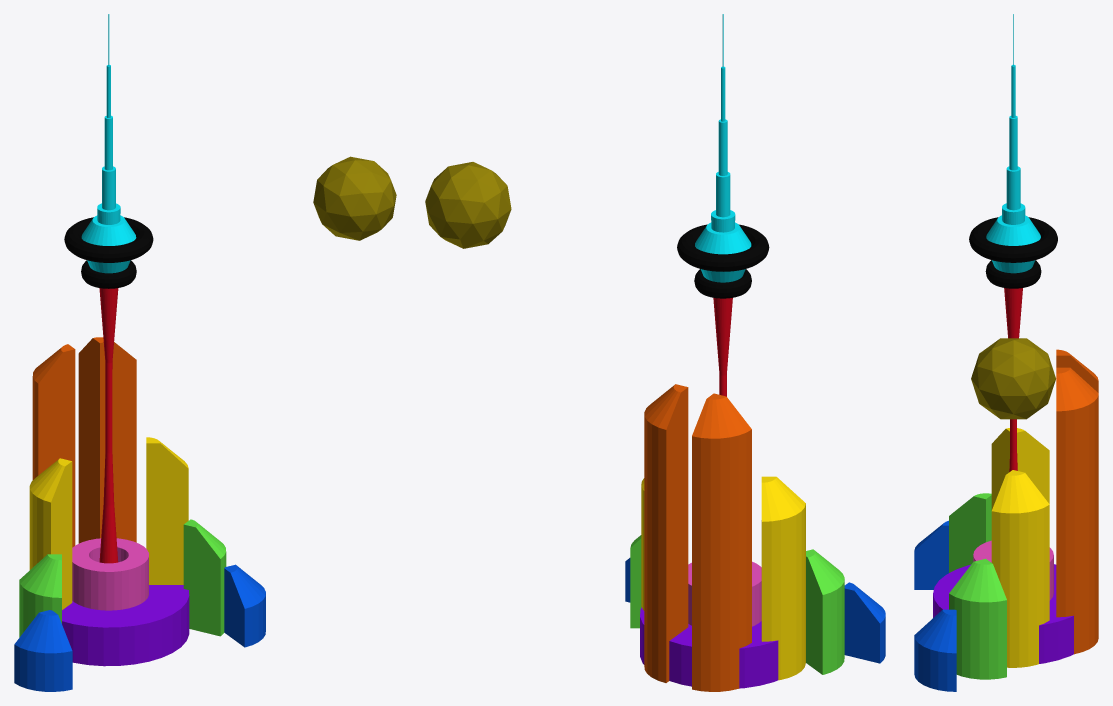
Rendered from Tour_Monstronomique.fbx.
3 renders of one model, left to right at view 1: azimuth 30°, elevation 25°; view 2: azimuth 150°, elevation 25°; view 3: azimuth 270°, elevation 25°, orthographic. The views are drawn at different scales.
Visible parts, largest first — view 1: Plane.004, Cylinder.002, Plane.005, Icosphere, Plane, Cylinder.001, Plane.001, Plane.006, Plane.003, Cylinder.003, Cylinder, Plane.007 (+3 smaller); view 2: Plane, Plane.004, Plane.001, Icosphere, Plane.002, Cylinder.003, Cylinder.002, Plane.003, Torus.001, Cylinder, Plane.006, Torus (+1 smaller); view 3: Plane.004, Plane.005, Plane.006, Icosphere, Cylinder.003, Plane.007, Plane.001, Cylinder.002, Plane.002, Torus.001, Plane.003, Cylinder (+3 smaller).
Part boxes in pixels (x1,y1,x2,y2): Plane.004: [78, 337, 136, 543]; Cylinder.002: [62, 585, 189, 666]; Plane.005: [146, 437, 188, 584]; Icosphere: [313, 156, 396, 240]; Plane: [32, 344, 75, 547]; Cylinder.001: [72, 538, 148, 610]; Plane.001: [29, 458, 72, 609]; Plane.006: [183, 519, 226, 636]; Plane.003: [14, 610, 72, 691]; Cylinder.003: [81, 14, 136, 273]; Cylinder: [99, 288, 118, 563]; Plane.007: [224, 564, 265, 647]; Plane: [692, 393, 751, 691]; Plane.004: [644, 384, 688, 682]; Plane.001: [761, 476, 805, 680]; Icosphere: [425, 162, 511, 248]; Plane.002: [806, 549, 844, 674]; Cylinder.003: [695, 14, 751, 282]; Cylinder.002: [640, 607, 778, 688]; Plane.003: [844, 582, 885, 663]; Torus.001: [677, 224, 769, 271]; Cylinder: [713, 298, 732, 396]; Plane.006: [630, 535, 641, 628]; Torus: [694, 269, 751, 298]; Plane.004: [1056, 367, 1098, 654]; Plane.005: [991, 470, 1049, 667]; Plane.006: [949, 558, 1006, 679]; Icosphere: [971, 338, 1055, 419]; Cylinder.003: [986, 14, 1040, 273]; Plane.007: [914, 609, 956, 691]; Plane.001: [991, 428, 1049, 510]; Cylinder.002: [933, 564, 1073, 663]; Plane.002: [949, 493, 991, 572]; Torus.001: [969, 217, 1057, 262]; Plane.003: [914, 520, 948, 589]; Cylinder: [1004, 288, 1022, 471].
Bounding box in the file's own units: 32853 × 48000 × 13000.
